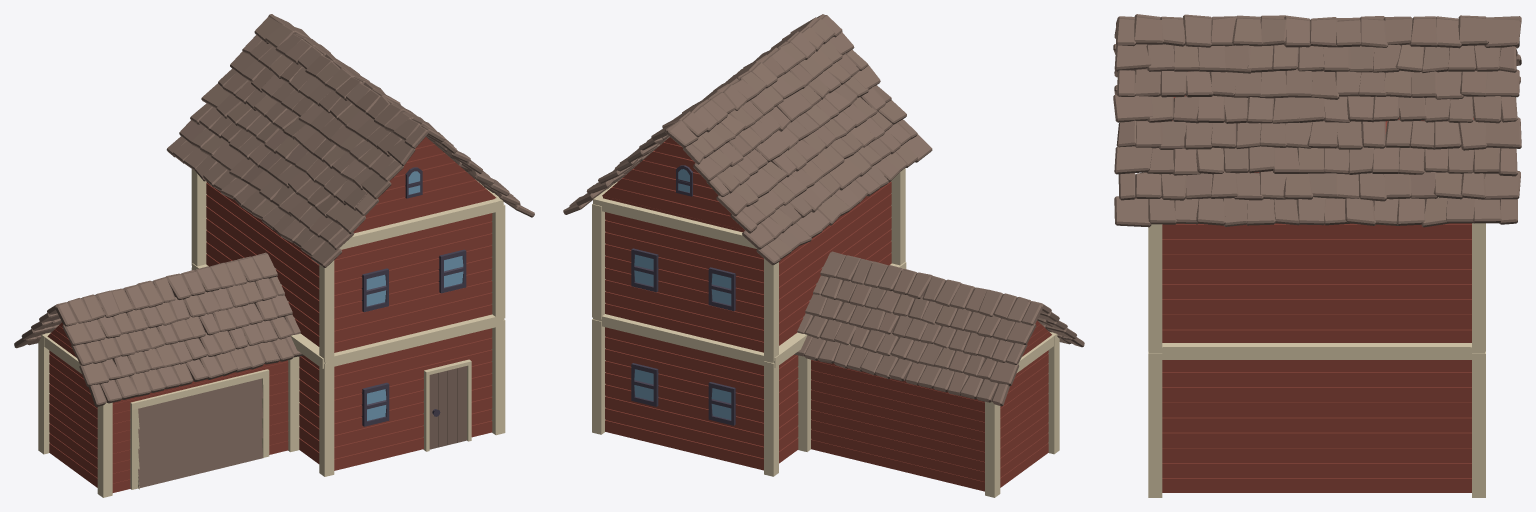
File: HouseB.fbx
3 views of the same model, side by side, from view 1: azimuth 30°, elevation 25°; view 2: azimuth 150°, elevation 25°; view 3: azimuth 270°, elevation 25° (orthographic). The views are drawn at different scales.
Parts seen in each view (by area): view 1: Plane.002, Plane, Cube.024, Cube.014, Cube.031, Cube.013, Cube.001, Cylinder, Cube.003, Cube.026, Cube.005, Cube.006 (+10 smaller); view 2: Plane.002, Plane, Cube.024, Cube.013, Cube.014, Cube.001, Cube.019, Cube.037, Cube.008, Cube.010, Cube.007, Cube.029 (+9 smaller); view 3: Plane.002, Cube.014, Cube.024, Cube.021, Cube.006, Cube.007, Cube.028, Cube.029.
Part boxes in pixels (bbox=[...]): Plane.002: bbox=[166, 14, 534, 267]; Plane: bbox=[14, 252, 303, 406]; Cube.024: bbox=[206, 181, 494, 352]; Cube.014: bbox=[299, 328, 492, 470]; Cube.031: bbox=[130, 369, 269, 489]; Cube.013: bbox=[49, 350, 288, 492]; Cube.001: bbox=[353, 137, 496, 232]; Cylinder: bbox=[423, 359, 471, 451]; Cube.003: bbox=[325, 314, 504, 368]; Cube.026: bbox=[339, 199, 504, 249]; Cube.005: bbox=[319, 363, 334, 476]; Cube.006: bbox=[491, 319, 505, 435]; Plane.002: bbox=[563, 14, 932, 265]; Plane: bbox=[794, 251, 1084, 406]; Cube.024: bbox=[603, 181, 891, 351]; Cube.013: bbox=[811, 350, 1048, 491]; Cube.014: bbox=[605, 313, 798, 470]; Cube.001: bbox=[602, 137, 744, 230]; Cube.019: bbox=[593, 314, 773, 365]; Cube.037: bbox=[593, 195, 756, 248]; Cube.008: bbox=[764, 361, 778, 476]; Cube.010: bbox=[985, 401, 1000, 497]; Cube.007: bbox=[592, 319, 605, 434]; Cube.029: bbox=[592, 204, 605, 319]; Plane.002: bbox=[1113, 14, 1521, 227]; Cube.014: bbox=[1162, 342, 1471, 492]; Cube.024: bbox=[1162, 223, 1471, 342]; Cube.021: bbox=[1163, 343, 1470, 359]; Cube.006: bbox=[1148, 353, 1162, 497]; Cube.007: bbox=[1472, 351, 1485, 497]; Cube.028: bbox=[1148, 224, 1162, 351]; Cube.029: bbox=[1472, 223, 1485, 351].
Size of the model in its own units: 713 by 567 by 491.
